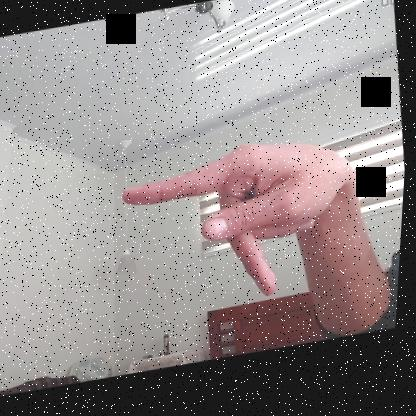P: (111, 128, 369, 325)
